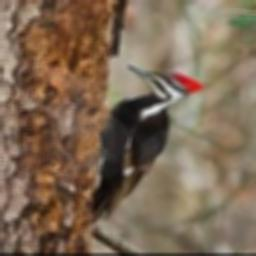Woodpecker: (91, 65, 202, 222)
